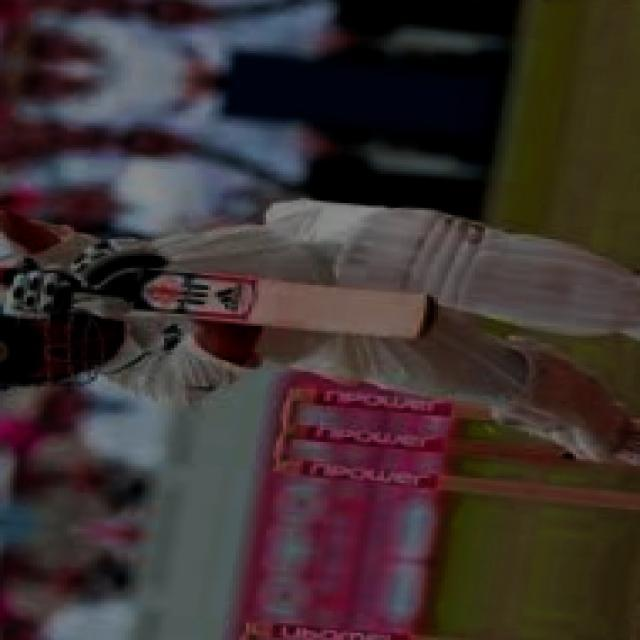bat: (84, 269, 440, 342)
toe: (417, 296, 437, 338)
